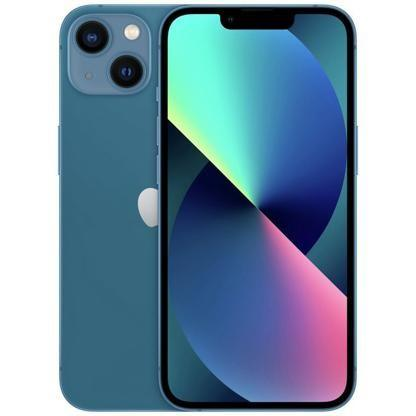not trash: (57, 3, 359, 411), (158, 4, 358, 414)
